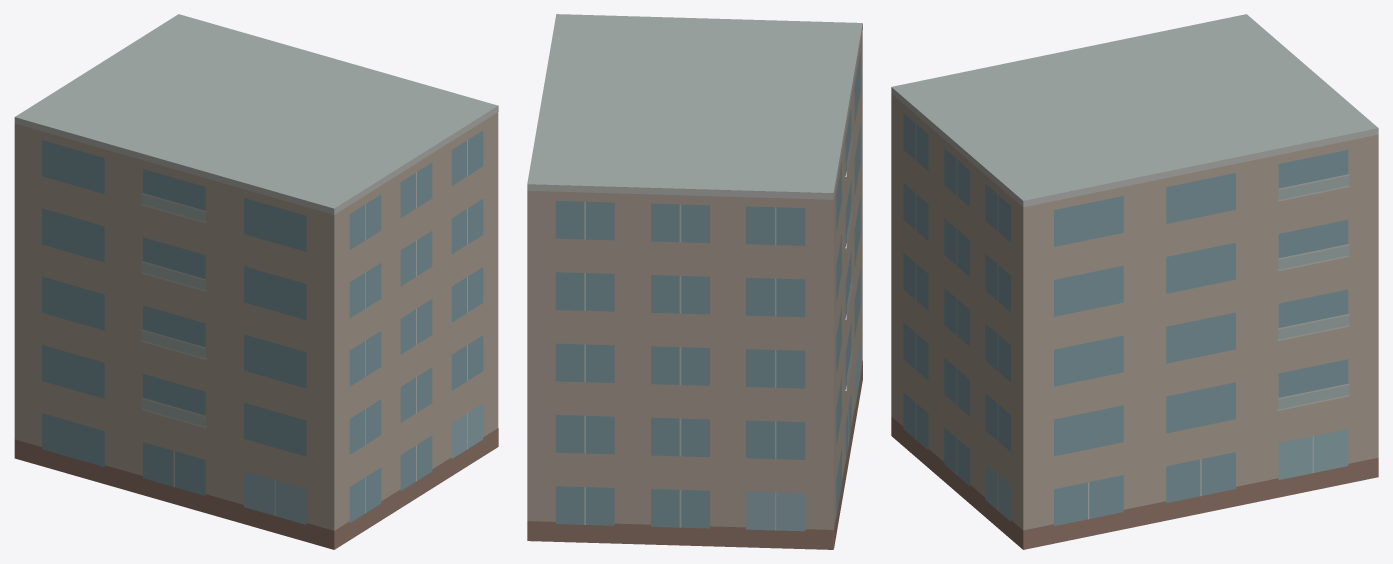
Rendered from survey-upis-32730117.glb.
3 renders of one model, left to right at view 1: azimuth 30°, elevation 25°; view 2: azimuth 150°, elevation 25°; view 3: azimuth 270°, elevation 25°, orthographic. The views are drawn at different scales.
Visible parts, largest first — view 1: survey-upis-32730117.tmp; view 2: survey-upis-32730117.tmp; view 3: survey-upis-32730117.tmp.
Part boxes in pixels (x1=…): survey-upis-32730117.tmp: x1=14, y1=14, x2=498, y2=549; survey-upis-32730117.tmp: x1=527, y1=14, x2=862, y2=549; survey-upis-32730117.tmp: x1=891, y1=14, x2=1378, y2=549.
Size of the model in its own units: 15.17 by 13.2 by 16.72.
